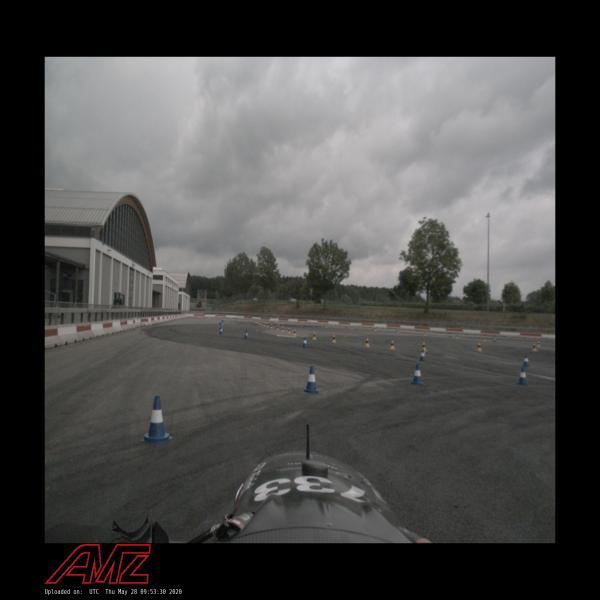blue_cone: (138, 396, 172, 444), (303, 365, 320, 394), (410, 363, 425, 385), (516, 367, 529, 385), (522, 354, 530, 367), (418, 350, 427, 361), (302, 336, 308, 348), (243, 330, 249, 340), (219, 326, 224, 336), (493, 337, 497, 342)
yellow_cone: (390, 340, 396, 350), (476, 342, 482, 352), (421, 342, 427, 352), (364, 338, 370, 347), (532, 342, 537, 352), (311, 332, 317, 340), (332, 334, 337, 343), (287, 327, 291, 335), (270, 322, 274, 330), (276, 325, 280, 332), (537, 341, 541, 347), (281, 326, 285, 332), (293, 329, 296, 336), (483, 335, 486, 342)
